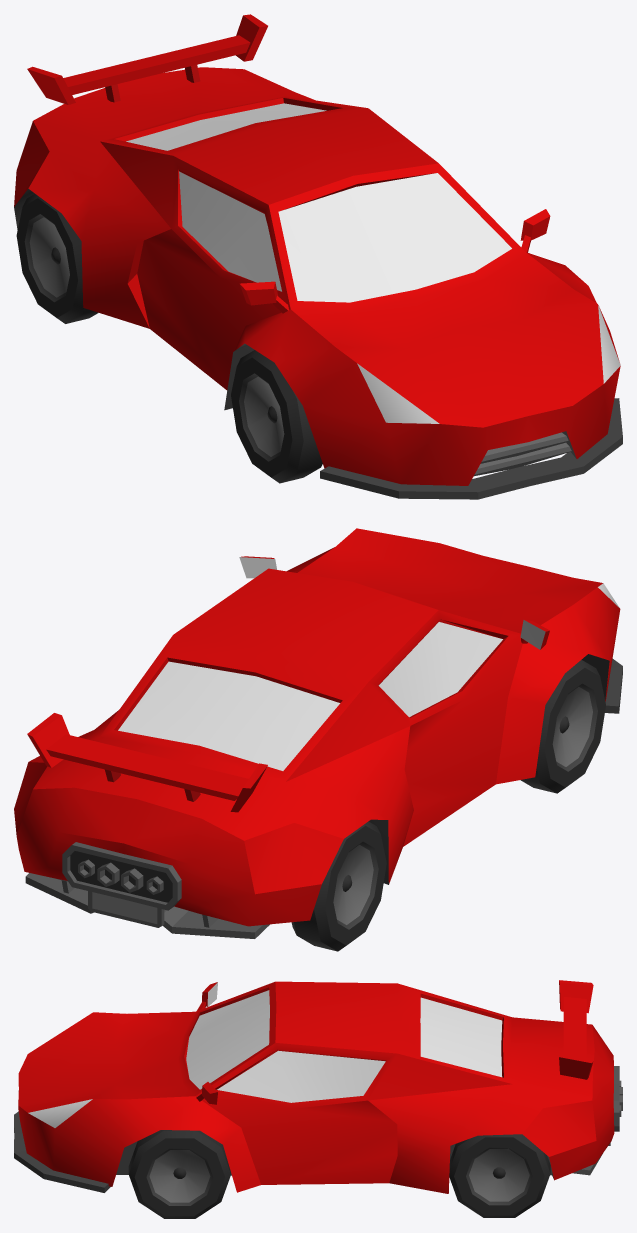
File: lamb.fbx
The picture shows the model from 3 angles, top to bottom: view 1: azimuth 30°, elevation 25°; view 2: azimuth 150°, elevation 25°; view 3: azimuth 270°, elevation 25°; orthographic projection. The views are drawn at different scales.
Visible parts, largest first — view 1: lamb, wheels.001, wheels; view 2: lamb, wheels, wheels.001; view 3: lamb, wheels.056, wheels.057.
Part boxes in pixels (bbox=[...]): lamb: bbox=[14, 14, 622, 499]; wheels.001: bbox=[231, 350, 322, 483]; wheels: bbox=[16, 194, 98, 323]; lamb: bbox=[14, 528, 622, 938]; wheels: bbox=[291, 821, 386, 951]; wheels.001: bbox=[520, 660, 605, 793]; lamb: bbox=[14, 980, 622, 1193]; wheels.056: bbox=[128, 1130, 230, 1218]; wheels.057: bbox=[449, 1134, 550, 1217].
Size of the model in its own units: 207 by 133 by 462.
